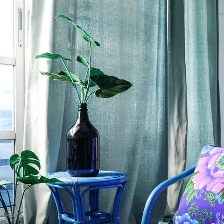bottle: (63, 100, 104, 179), (3, 207, 22, 224)
